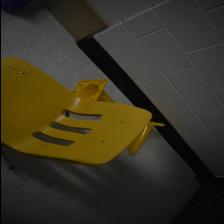cone: (127, 122, 164, 154), (72, 80, 114, 104)
